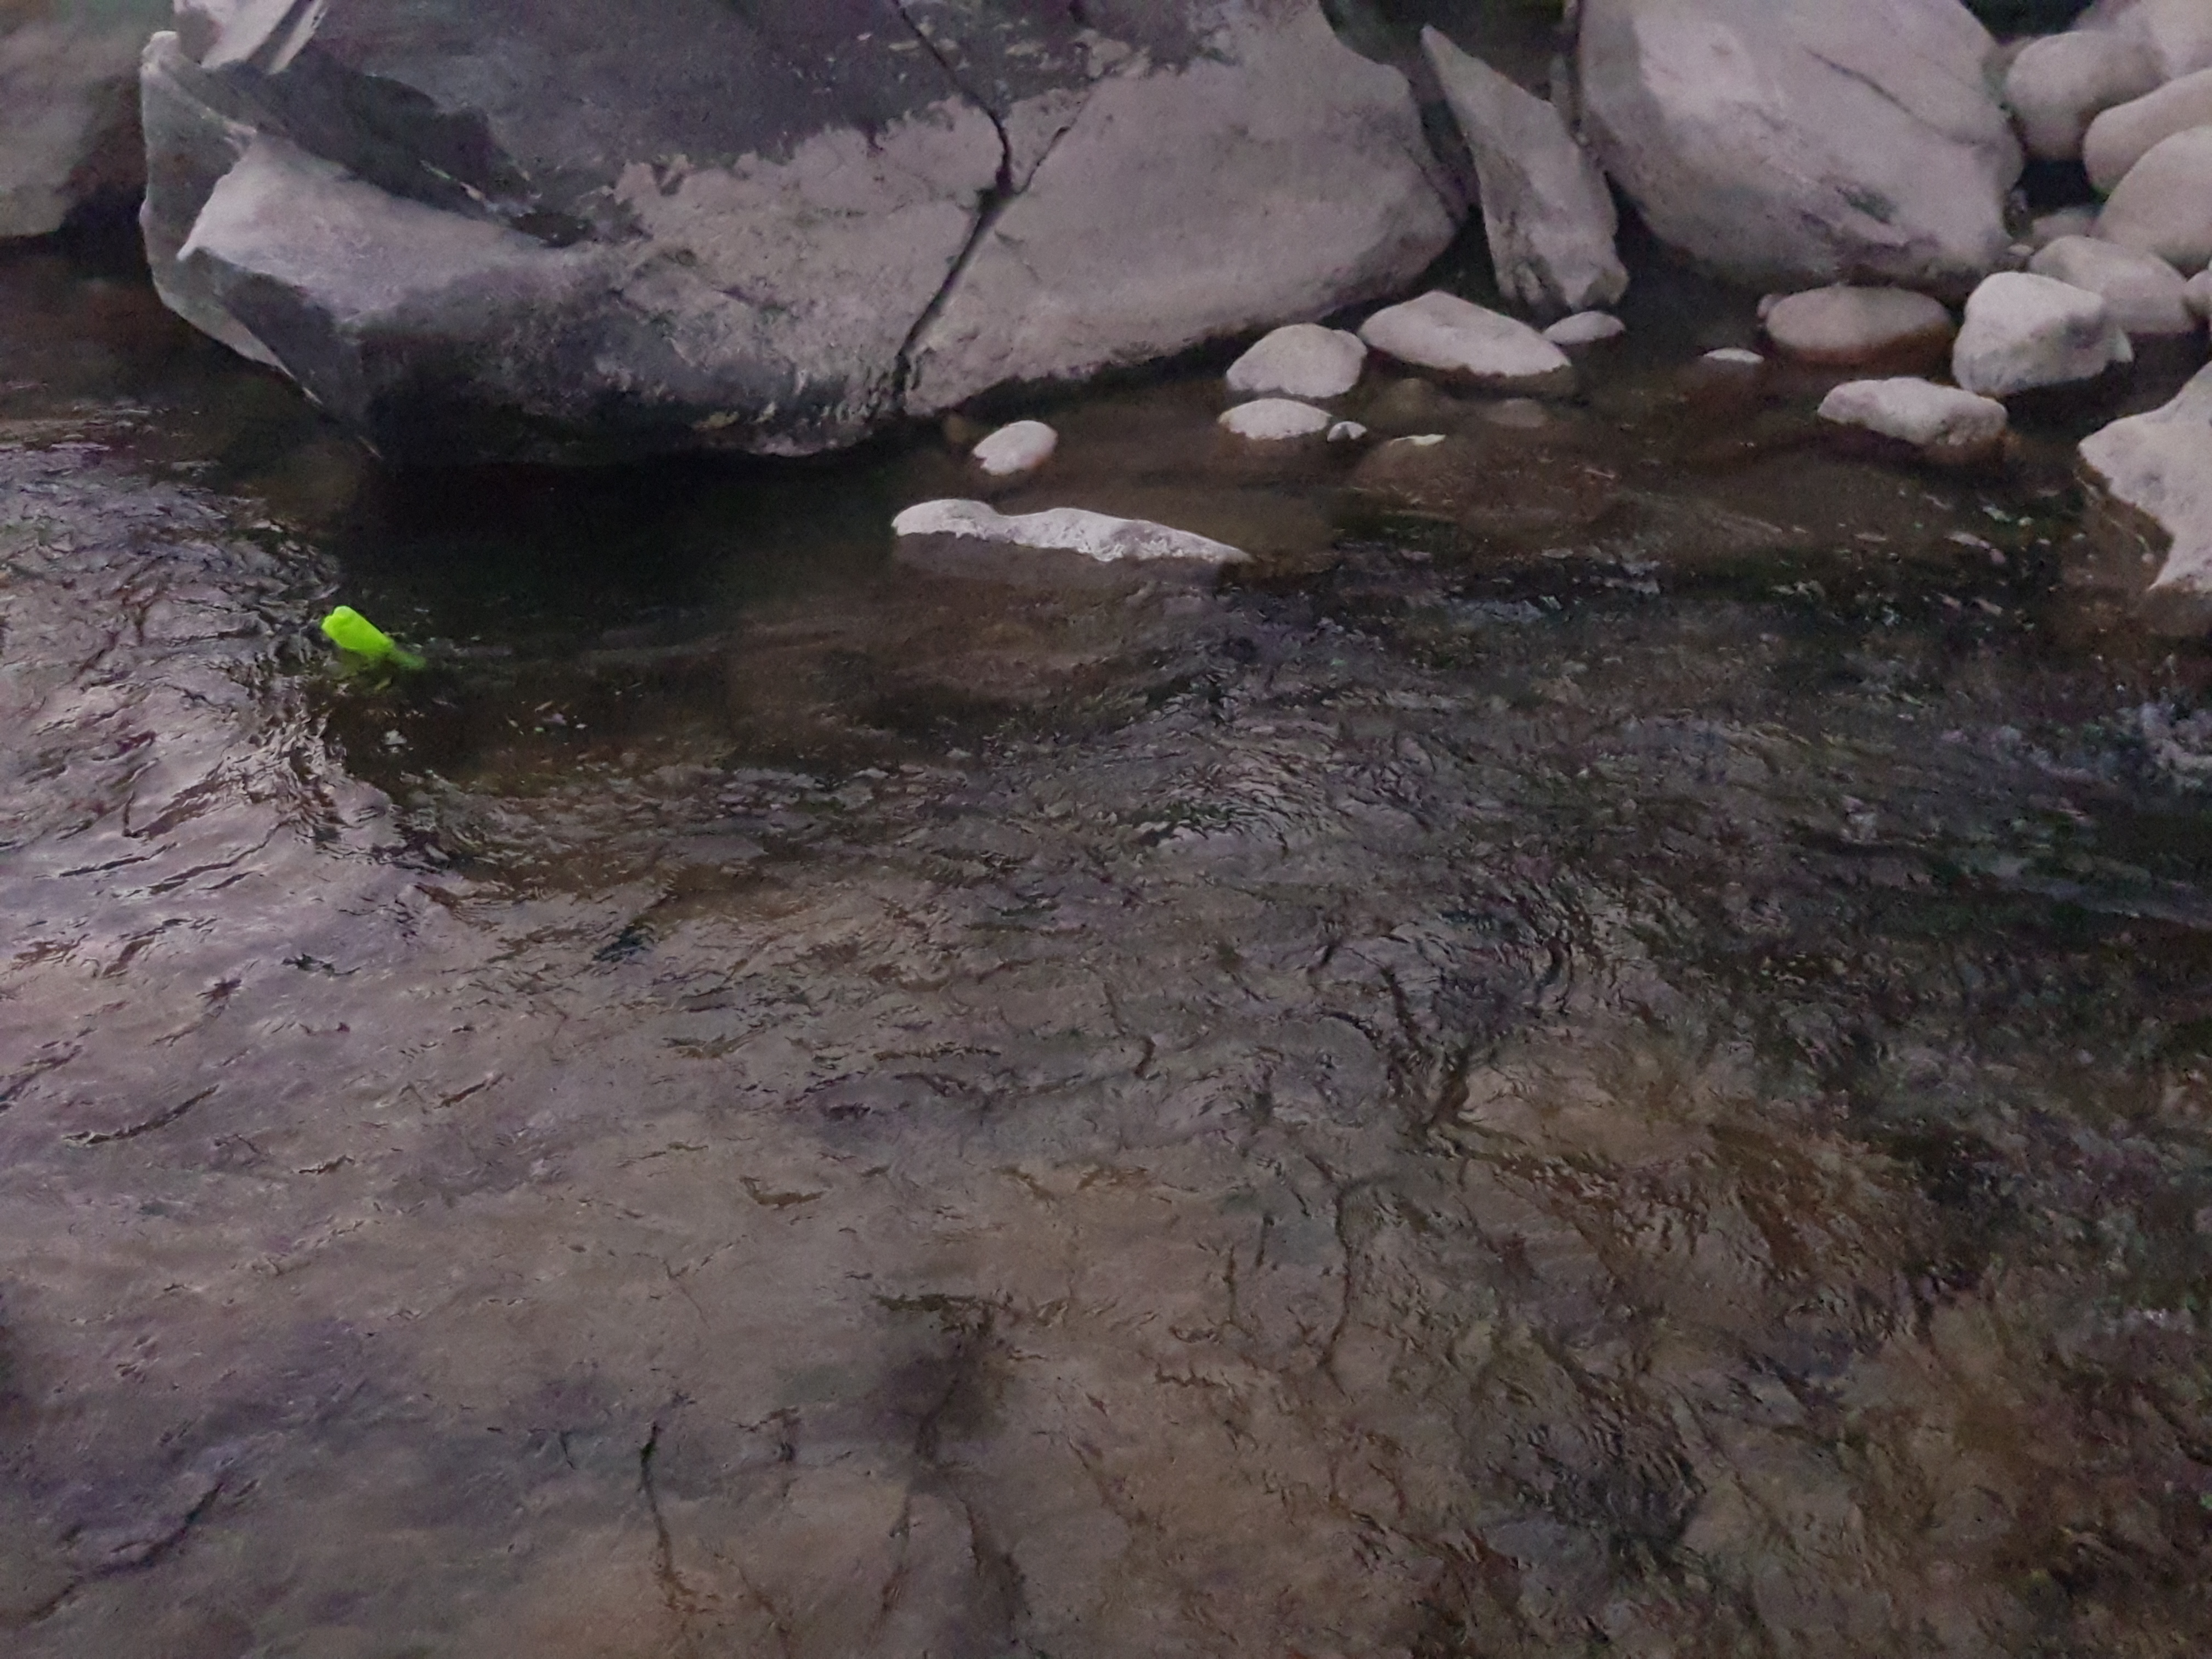Plastic Bottle: (322, 603, 385, 650)
